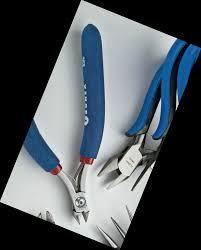pliers: (20, 15, 103, 224), (97, 122, 160, 190)
